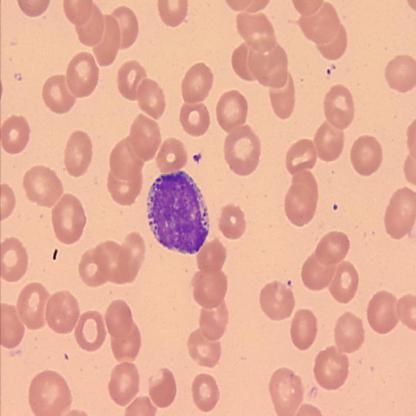Myelocyte: (146, 170, 211, 254)
